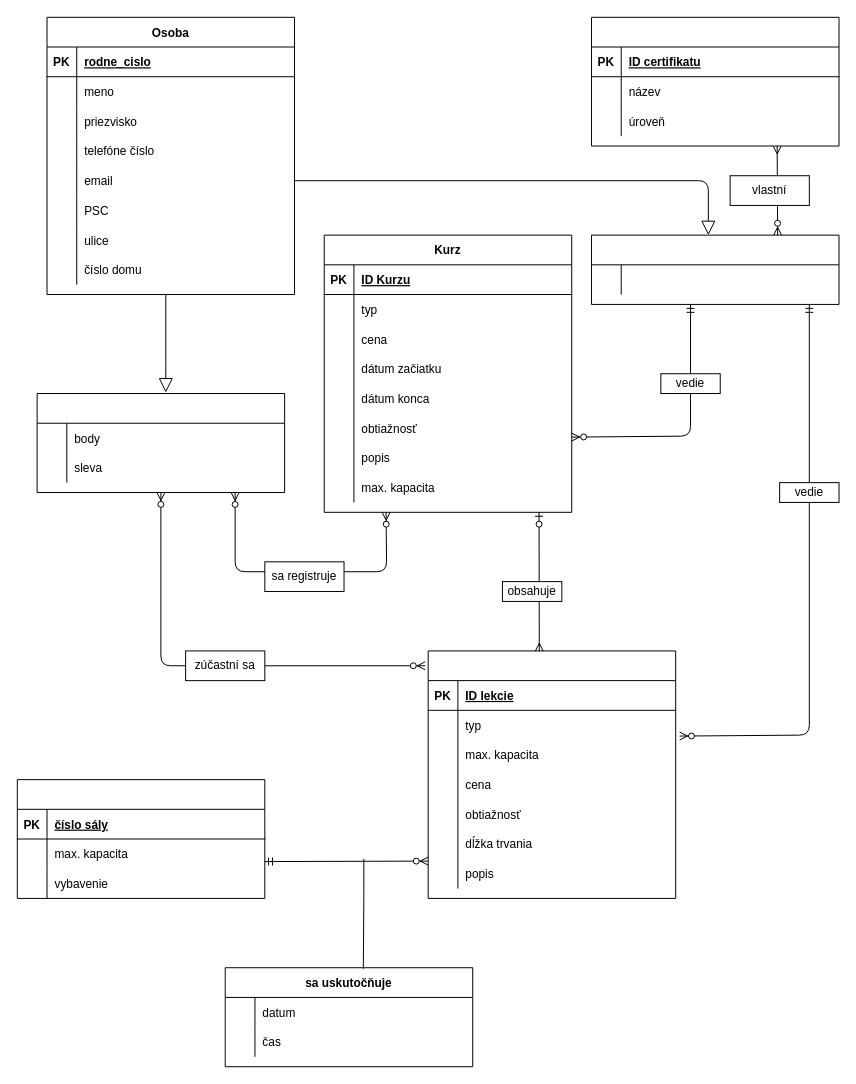
This 856x1084 diagram has some shape labels left out. Here are the shapes that lost their labels. From the top down, the box of each, then its label:
(591, 16, 839, 146): certifikát
(591, 234, 839, 304): Inštruktor
(36, 393, 285, 493): Klient
(427, 650, 676, 898): Lekcia
(16, 779, 265, 898): Sála
